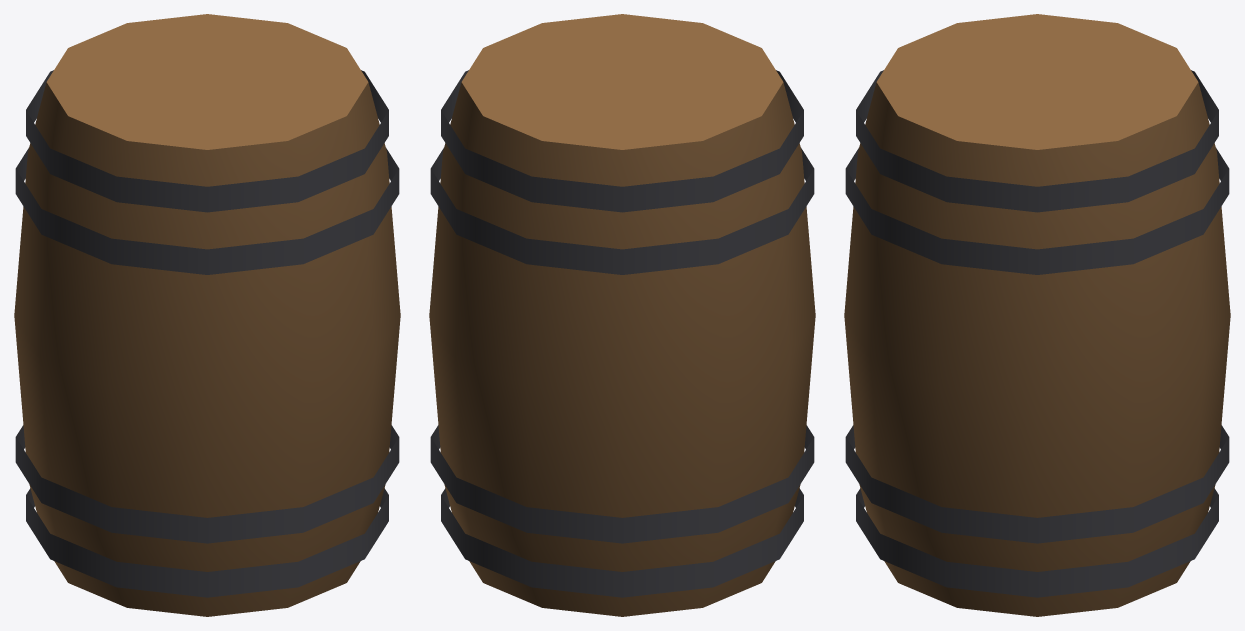
The model's file is Barrel.fbx.
3 renders of one model, left to right at view 1: azimuth 30°, elevation 25°; view 2: azimuth 150°, elevation 25°; view 3: azimuth 270°, elevation 25°, orthographic.
Parts seen in each view (by area): view 1: Barrel; view 2: Barrel; view 3: Barrel.
Boxes of the visible parts, box(x1,y1,x2,y2) form: Barrel: box(14, 14, 400, 616); Barrel: box(429, 14, 815, 616); Barrel: box(844, 14, 1230, 616).
Bounding box in the file's own units: 0.6 × 0.8 × 0.6.
